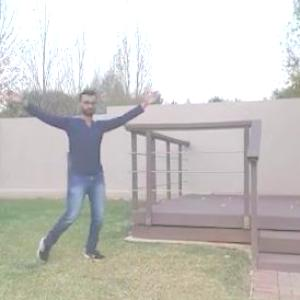takeoff: (0, 91, 163, 269)
